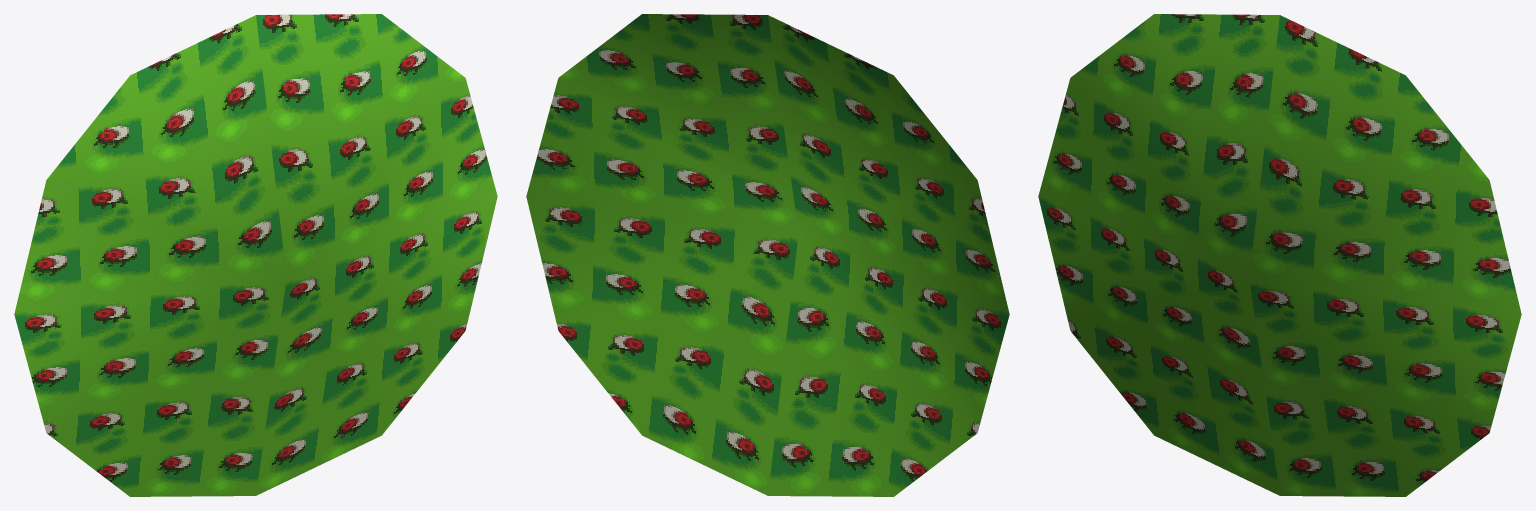
Rendered from 4881fish91_r.gltf.
3 views of the same model, side by side, from view 1: azimuth 30°, elevation 25°; view 2: azimuth 150°, elevation 25°; view 3: azimuth 330°, elevation 25° (orthographic).
Visible parts, largest first — view 1: 4881fish91_r; view 2: 4881fish91_r; view 3: 4881fish91_r.
Part boxes in pixels (x1,y1,x2,y2): 4881fish91_r: (14,14,497,496); 4881fish91_r: (526,14,1009,496); 4881fish91_r: (1038,14,1521,496).
Size of the model in its own units: 0.2578 by 0.2451 by 0.0283.
Materials: 1 (1 with a texture image).
